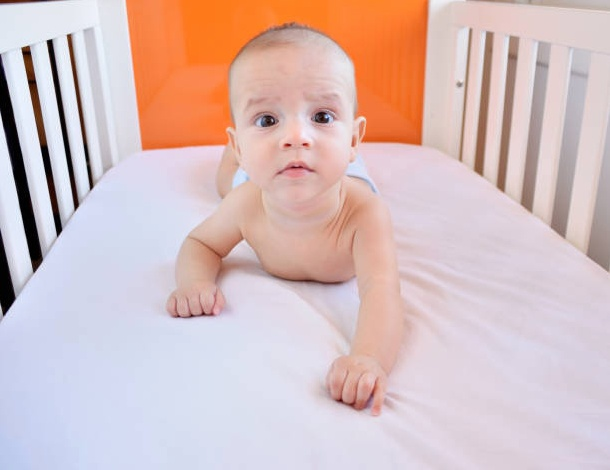baby: (167, 23, 403, 414)
crib: (0, 0, 609, 468)
